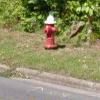Hydrant: (39, 9, 62, 55)
